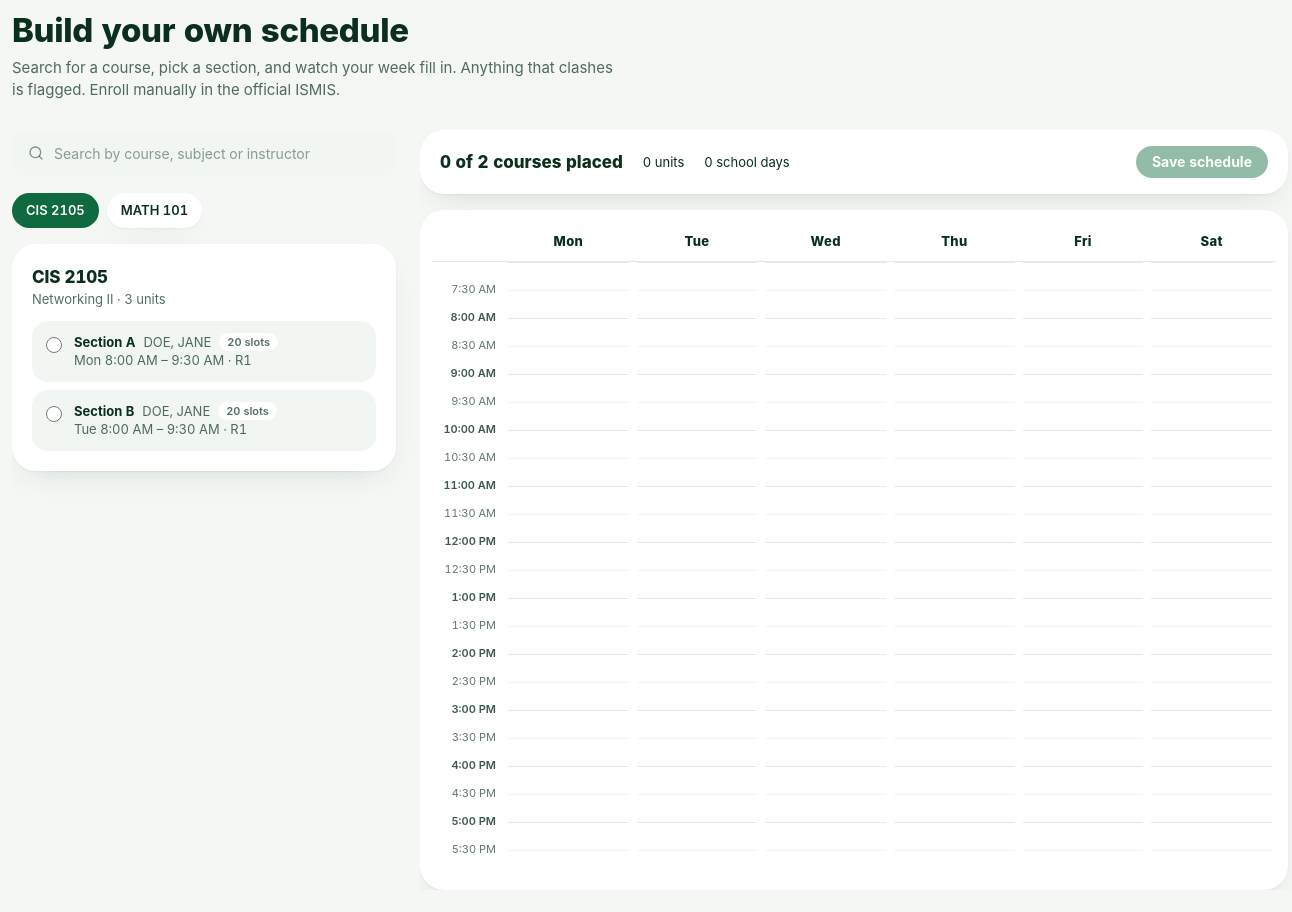
Test case: BuildSchedulePage › filters the courses in the plan by search, and shows a message when nothing matches
The image size is (1292, 912).
Type "math" into the search field named "Search courses". click: (204, 153)
box: [12, 130, 396, 177]
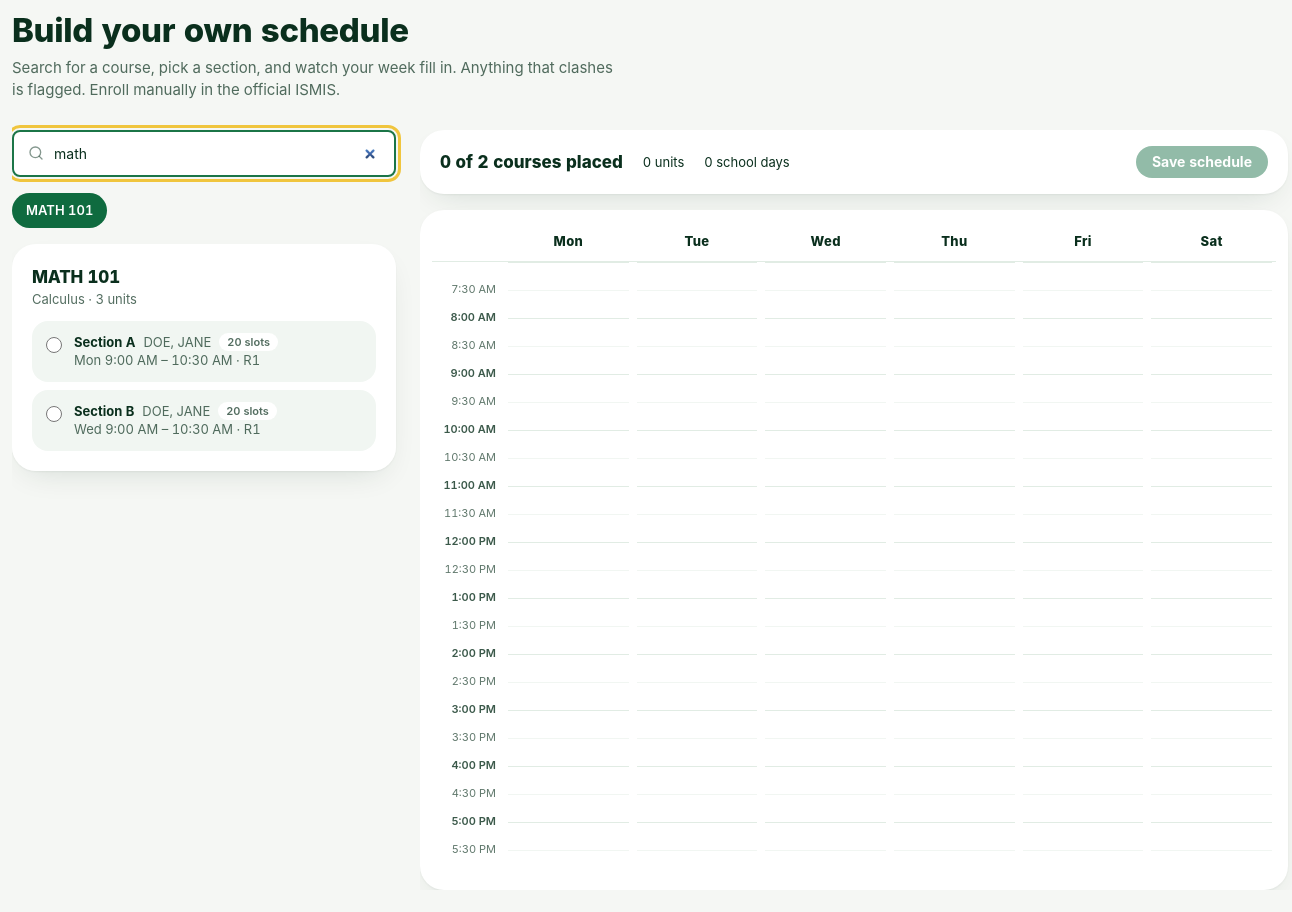
Expected: the radio button with aria-label "MATH 101 section A" is shown, [46, 337, 62, 353]
Replace the text in the search field named "Search courses" with "zzz". click: (204, 153)
box: [12, 130, 396, 177]
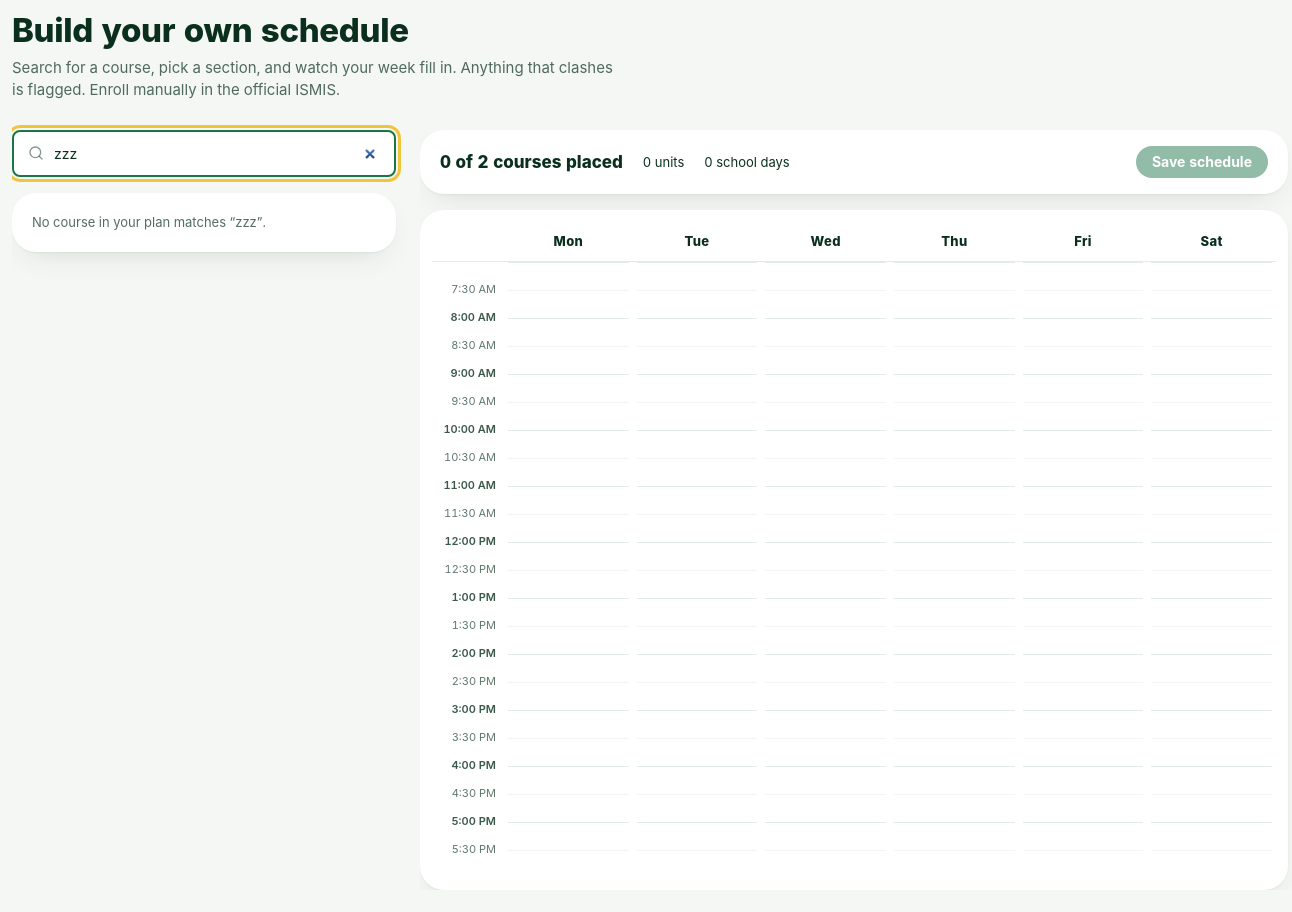
Now the text "No course in your plan matches “zzz”." is shown, box [12, 193, 396, 252]
